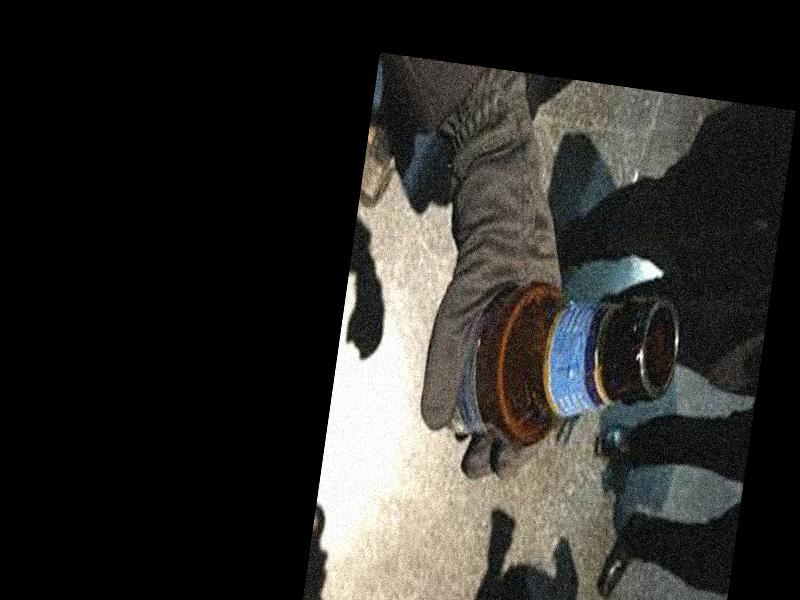Beer: (429, 264, 685, 474)
